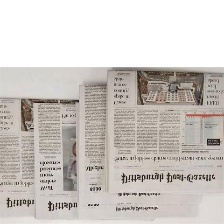news_paper: (30, 99, 219, 223), (74, 79, 205, 205), (104, 67, 224, 195), (0, 92, 72, 219)
